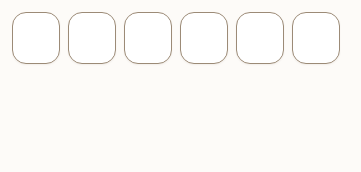
OtpInput › advances as you type, ignores letters and completes at six digits
The width and height of the screenshot is (361, 172).
Click the field named "Digit 1 of 6" at (36, 38), box [12, 12, 60, 64]
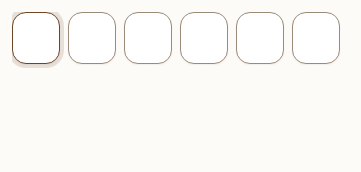
Type keys "12a3456"
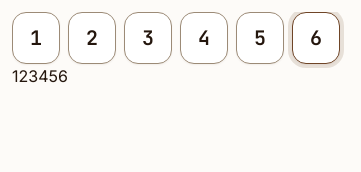
Now the text "123456" is shown, box [12, 66, 68, 86]
